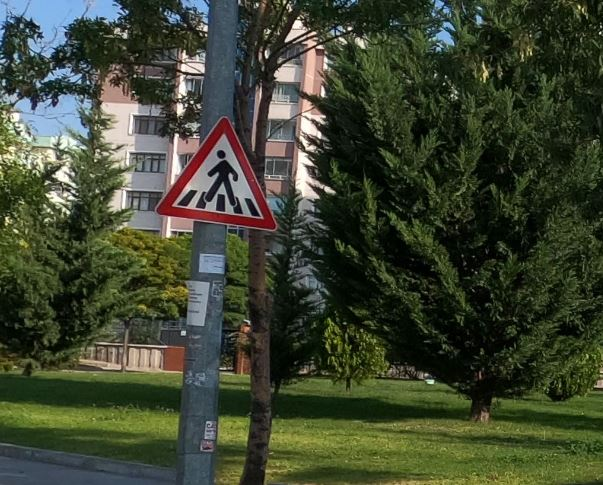Yaya Gecidi: (163, 109, 274, 232)
